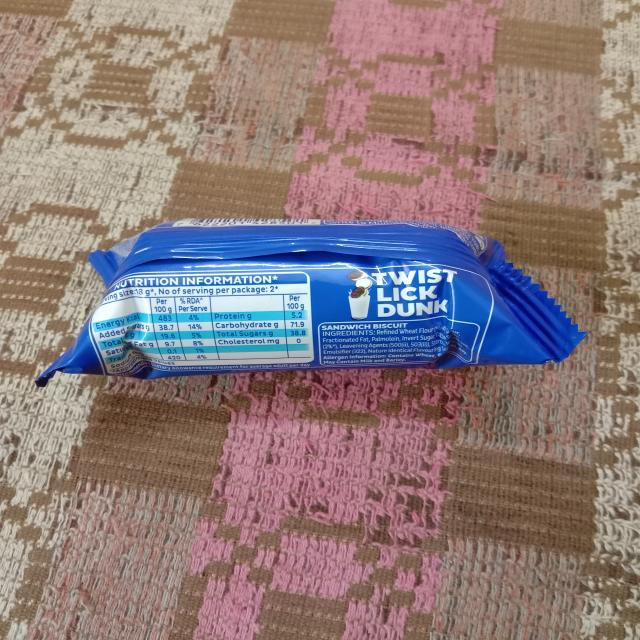oreo biscuit: (37, 215, 578, 396)
